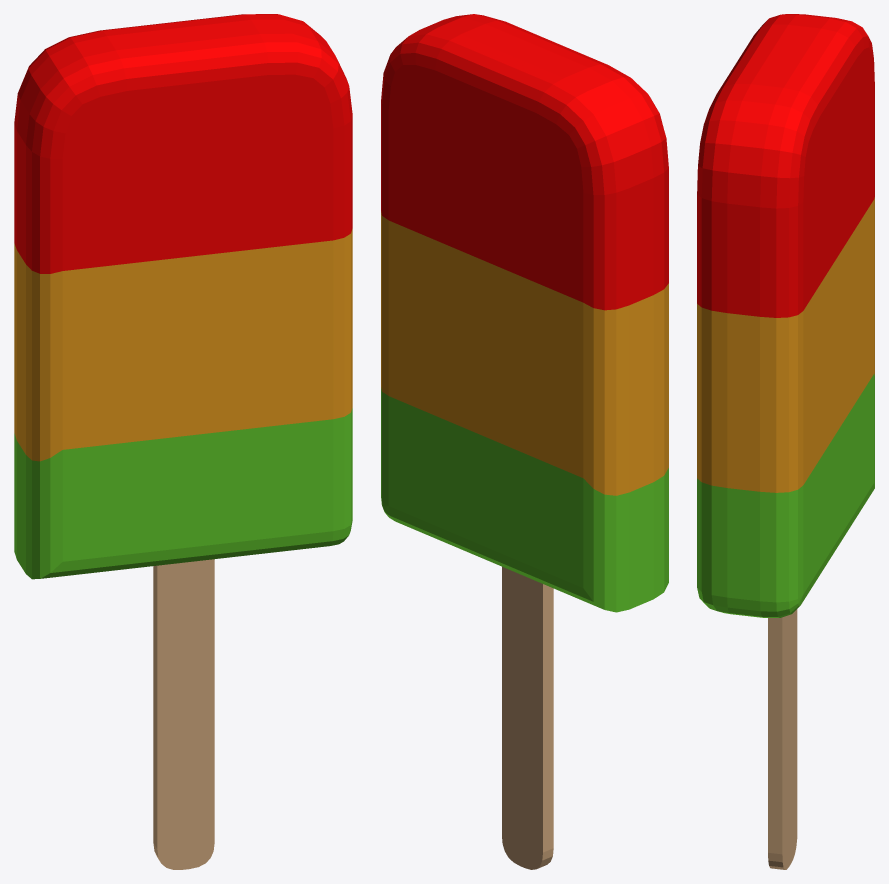
File: asset.gltf
3 renders of one model, left to right at view 1: azimuth 30°, elevation 25°; view 2: azimuth 150°, elevation 25°; view 3: azimuth 270°, elevation 25°, orthographic. The views are drawn at different scales.
Parts seen in each view (by area): view 1: node-0; view 2: node-0; view 3: node-0.
Part boxes in pixels (bbox=[...]): node-0: bbox=[14, 14, 352, 869]; node-0: bbox=[381, 14, 668, 869]; node-0: bbox=[697, 14, 874, 869].
Size of the model in its own units: 652634 by 1764700 by 351600.
